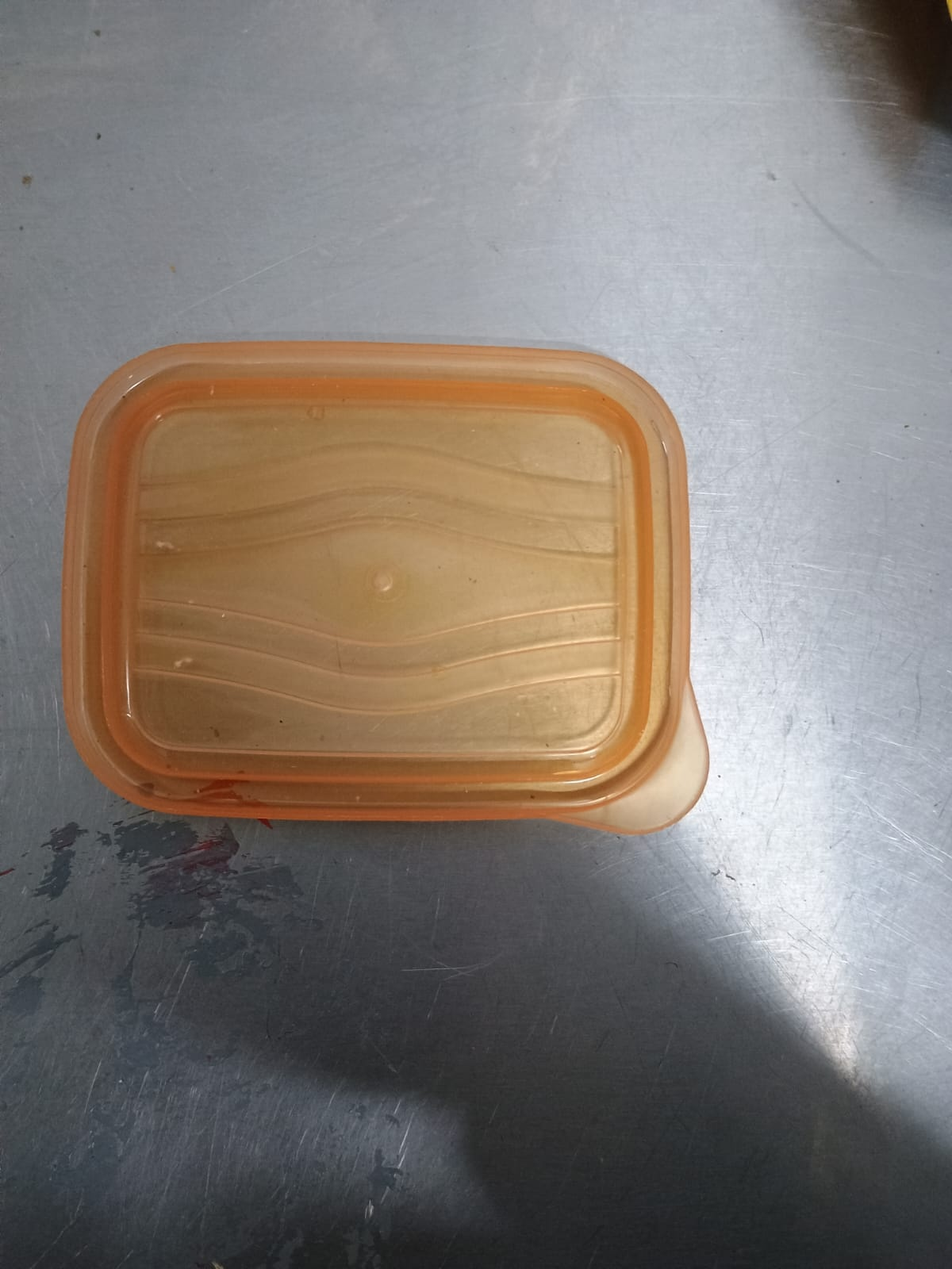Plastico: (66, 342, 708, 834)
